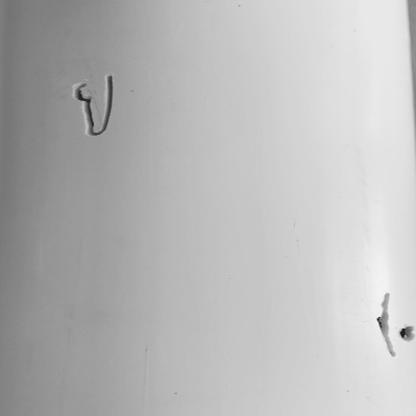fengxi: (68, 78, 121, 136)
kongdong: (370, 284, 400, 361), (396, 323, 416, 344)
